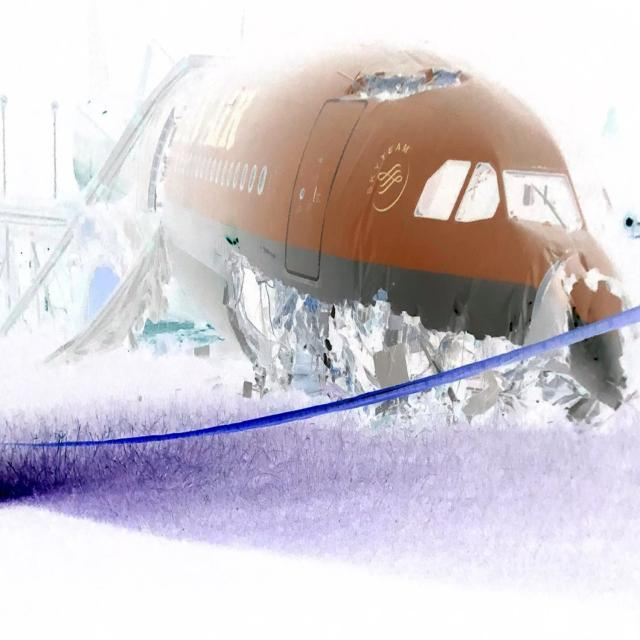crack: (346, 66, 474, 110)
